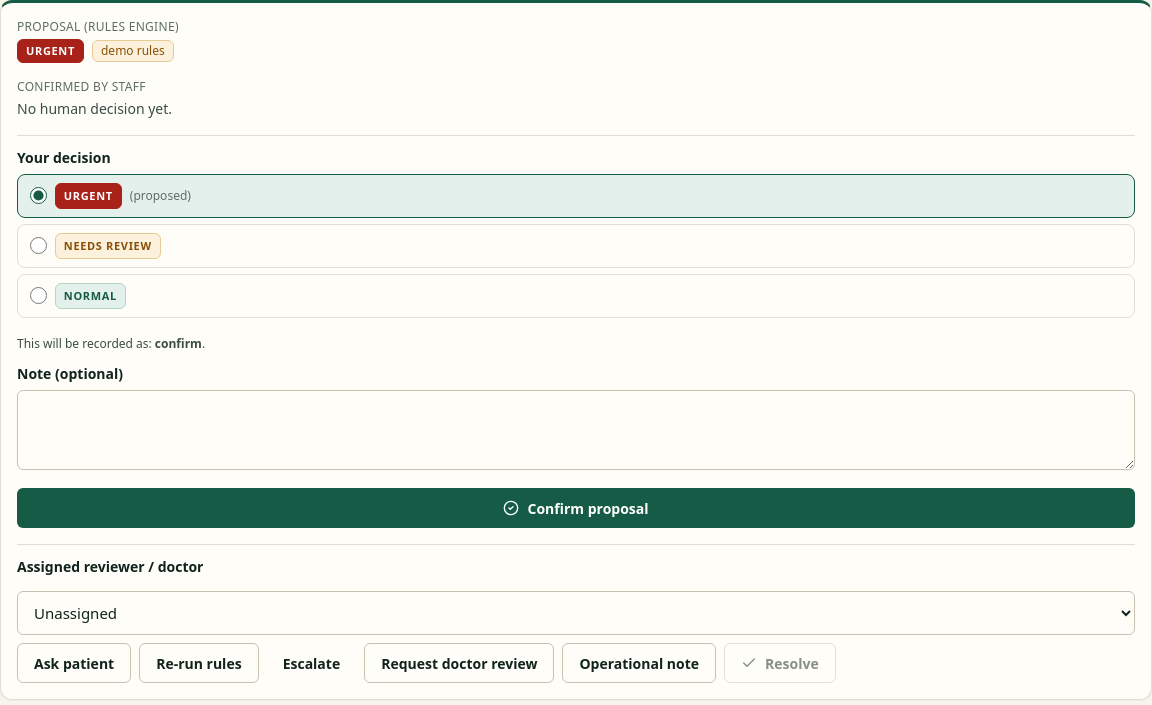
Test case: decision panel › surfaces a stale-assessment error from the server
Click the button "Confirm proposal".
click(576, 508)  # box top-left (17, 488), bottom-right (1135, 528)
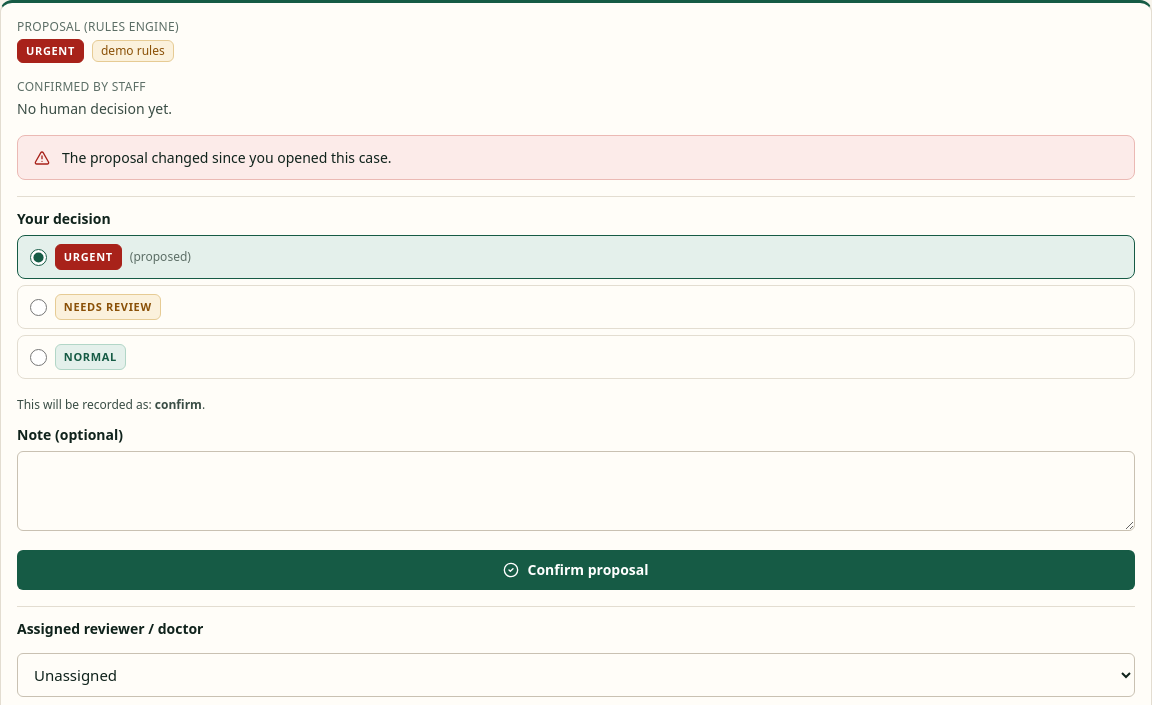
Result: the message shows "proposal changed" at top-left (62, 148), bottom-right (392, 167)
